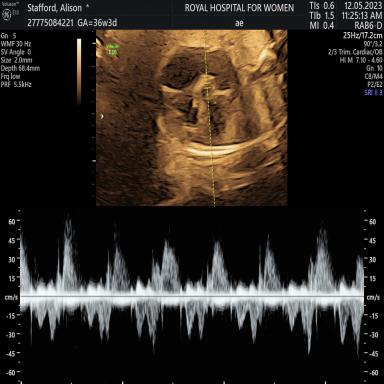Ultrasound-Waves: (27, 211, 361, 384)
